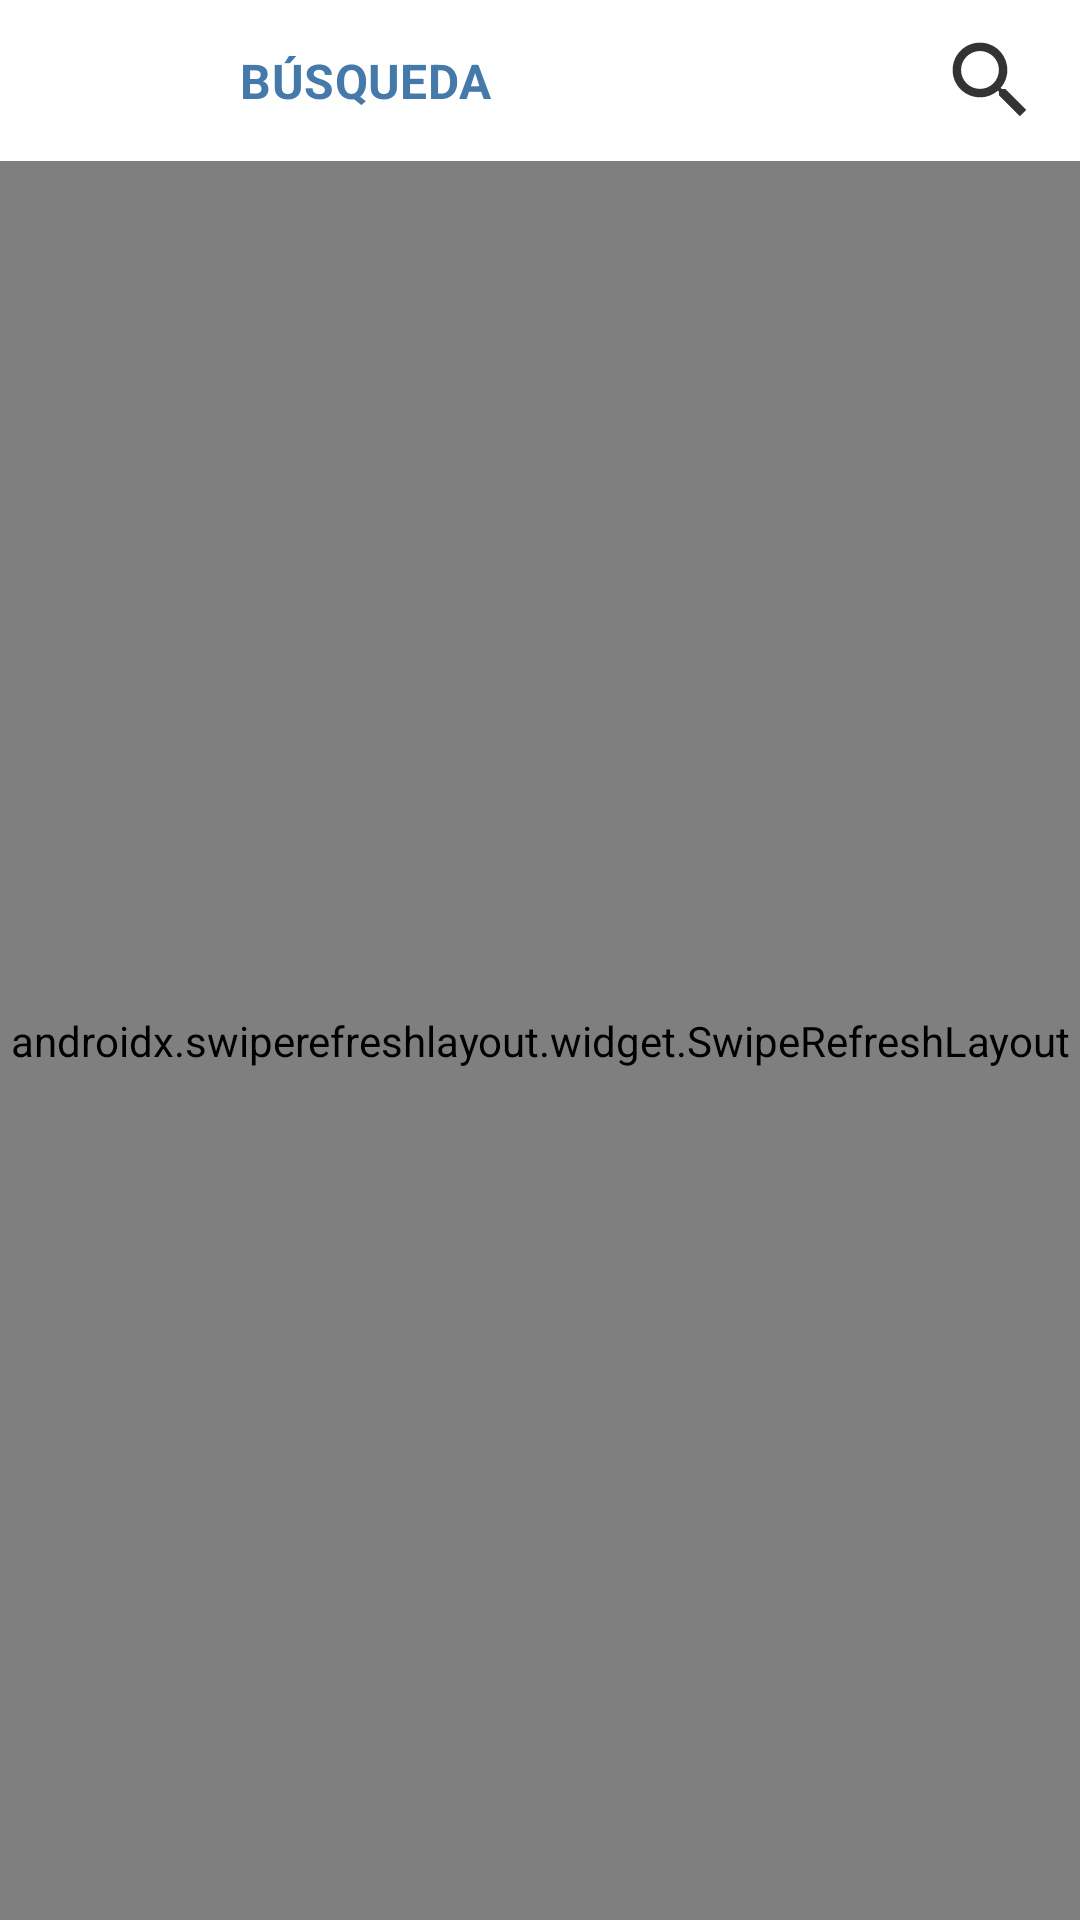

Named icons in this screenshot (1080 × 1920) and their bounding boxes, [x1=x1, y1=y1, x2=x2, y2=y2]:
search: [x1=952, y1=42, x2=1026, y2=116]
